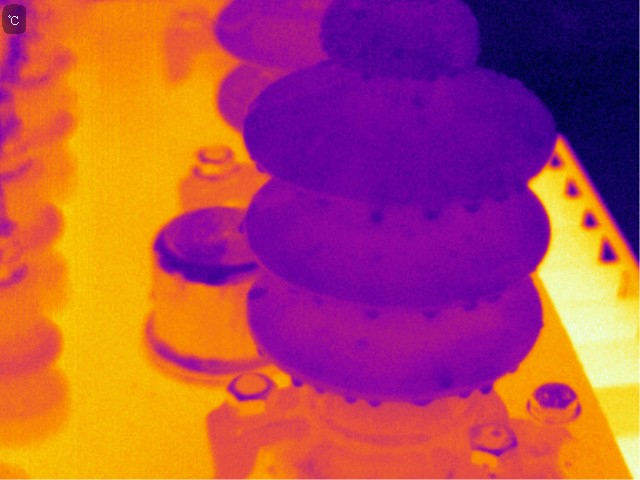Water: (243, 285, 270, 303), (458, 195, 482, 215), (354, 332, 374, 352), (237, 212, 252, 238), (432, 370, 453, 388), (421, 304, 442, 321), (288, 373, 307, 391), (460, 295, 479, 313), (422, 203, 440, 222), (368, 206, 387, 224), (415, 392, 434, 410), (486, 190, 514, 202), (251, 342, 269, 360), (368, 391, 384, 411), (363, 303, 381, 320), (410, 94, 429, 110), (478, 383, 493, 402), (391, 43, 405, 63), (335, 42, 352, 58), (511, 175, 526, 193), (457, 387, 472, 404), (253, 158, 268, 175), (448, 64, 461, 83), (344, 391, 359, 407), (315, 380, 327, 399), (424, 70, 439, 84), (355, 8, 369, 23), (508, 361, 522, 375), (363, 71, 372, 82)
